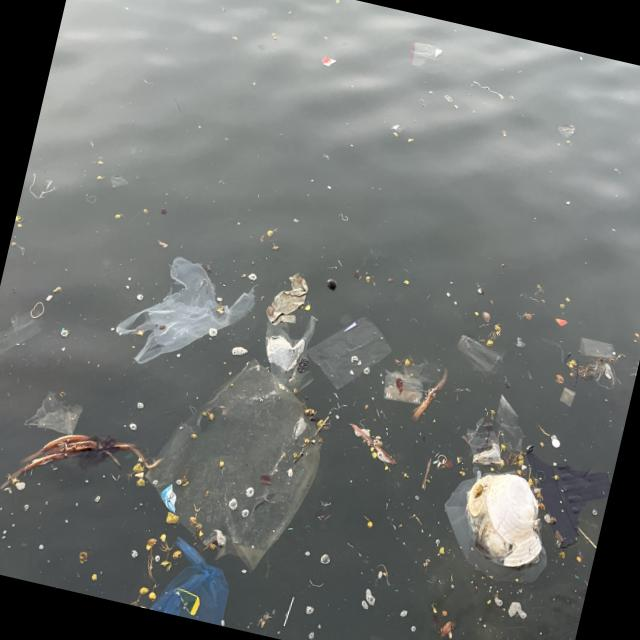foam: (470, 470, 557, 574)
plastic bag: (135, 365, 325, 567), (115, 256, 255, 366), (138, 536, 229, 629), (261, 311, 328, 396)
